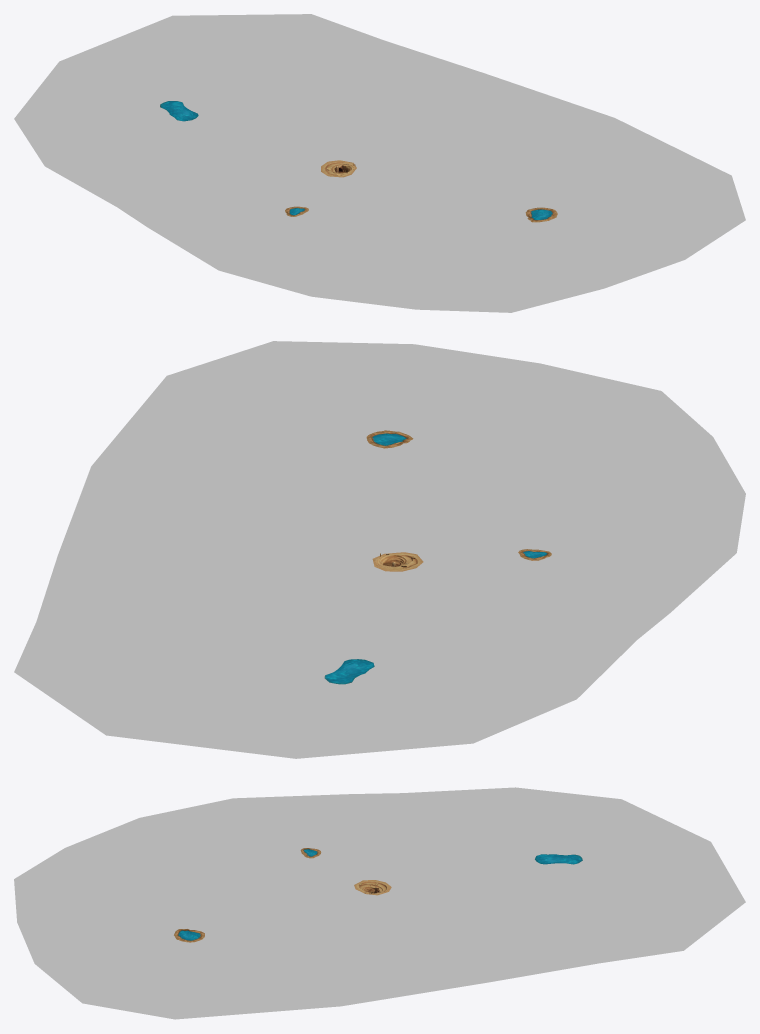
Rendered from dimian001.FBX.
3 views of the same model, one above another, from view 1: azimuth 30°, elevation 25°; view 2: azimuth 150°, elevation 25°; view 3: azimuth 270°, elevation 25° (orthographic). The views are drawn at different scales.
Visible parts, largest first — view 1: 对象004, 对象003, 对象005, 对象001, 对象002, 对象007, 对象009, 对象006, 对象008, 对象012; view 2: 对象004, 对象003, 对象005, 对象001, 对象002, 对象007, 对象009, 对象006, 对象008, 对象012, 对象010; view 3: 对象004, 对象003, 对象005, 对象001, 对象002, 对象007, 对象009, 对象006, 对象008, 对象012, 对象010.
Boxes of the visible parts, x1,y1,x2,y2 form: 对象004: (330,73,668,201); 对象003: (148,201,465,309); 对象005: (117,95,464,227); 对象001: (467,144,745,259); 对象002: (416,201,684,312); 对象007: (14,15,297,118); 对象009: (14,95,296,206); 对象006: (173,14,483,94); 对象008: (298,73,483,139); 对象012: (321,160,356,177); 对象004: (58,424,456,566); 对象003: (402,437,745,612); 对象005: (232,482,669,639); 对象001: (126,341,414,481); 对象002: (402,344,712,481); 对象007: (106,627,472,758); 对象009: (233,627,636,743); 对象006: (14,555,231,735); 对象008: (58,555,303,627); 对象012: (372,552,423,571); 对象010: (324,659,374,684); 对象004: (249,874,488,1012); 对象003: (65,794,348,915); 对象005: (250,793,533,915); 对象001: (35,916,264,1019); 对象002: (14,848,248,963); 对象007: (535,799,745,907); 对象009: (403,787,621,907); 对象006: (489,902,745,982); 对象008: (414,908,534,982); 对象012: (354,880,391,895); 对象010: (535,854,582,864).
Size of the model in its own units: 3054 by 54.33 by 4071.
